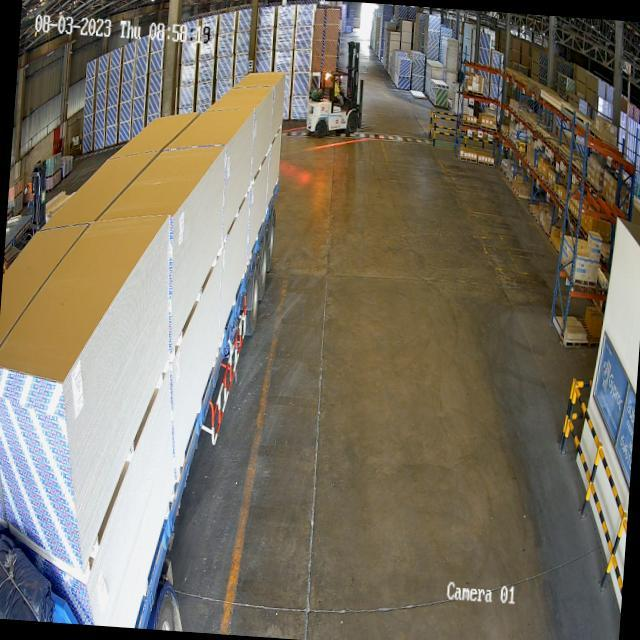forklift: (304, 62, 366, 143)
